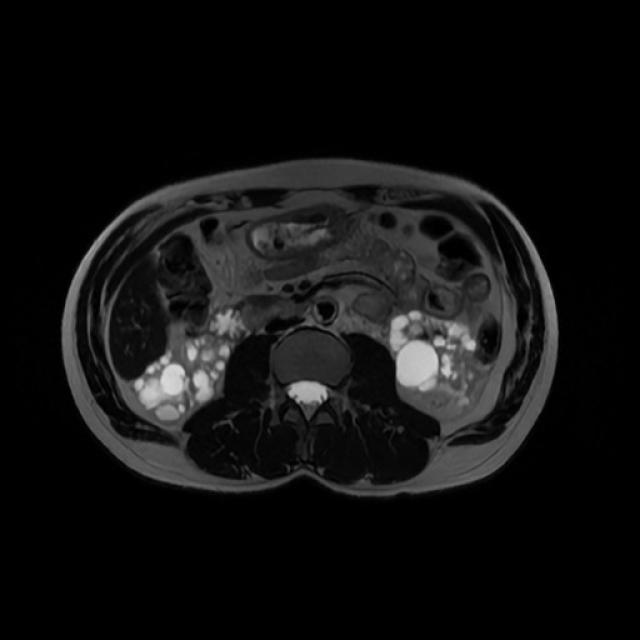sag: (139, 336, 232, 420)
sol: (391, 310, 477, 395)
